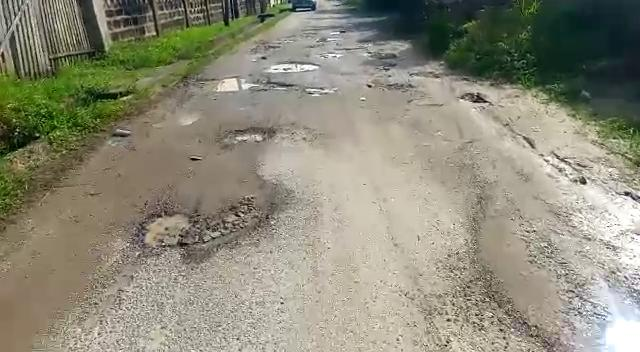pothole: (135, 191, 284, 255), (601, 311, 640, 352), (207, 76, 296, 93), (218, 124, 280, 145), (266, 61, 325, 72), (303, 84, 335, 95)
